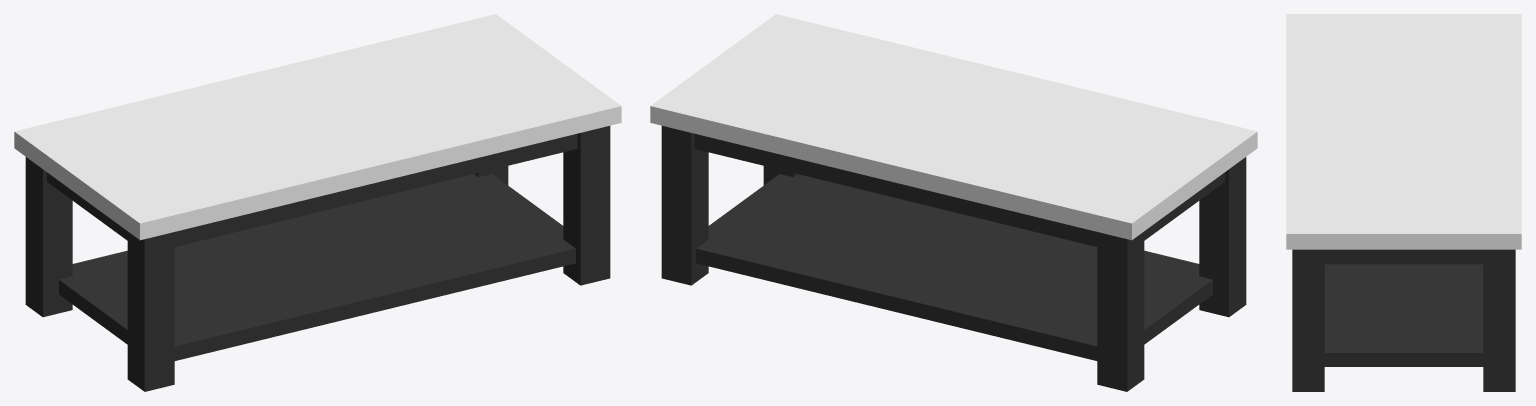
Rendered from Table_5A.fbx.
3 renders of one model, left to right at view 1: azimuth 30°, elevation 25°; view 2: azimuth 150°, elevation 25°; view 3: azimuth 270°, elevation 25°, orthographic. The views are drawn at different scales.
Parts seen in each view (by area): view 1: polySurface1516; view 2: polySurface1516; view 3: polySurface1516.
Boxes of the visible parts, x1,y1,x2,y2 form: polySurface1516: [14, 14, 621, 391]; polySurface1516: [650, 14, 1257, 391]; polySurface1516: [1286, 14, 1521, 391].
Bounding box in the file's own units: 2.1 × 0.72 × 0.95.
Materials: 1 (1 with a texture image).
